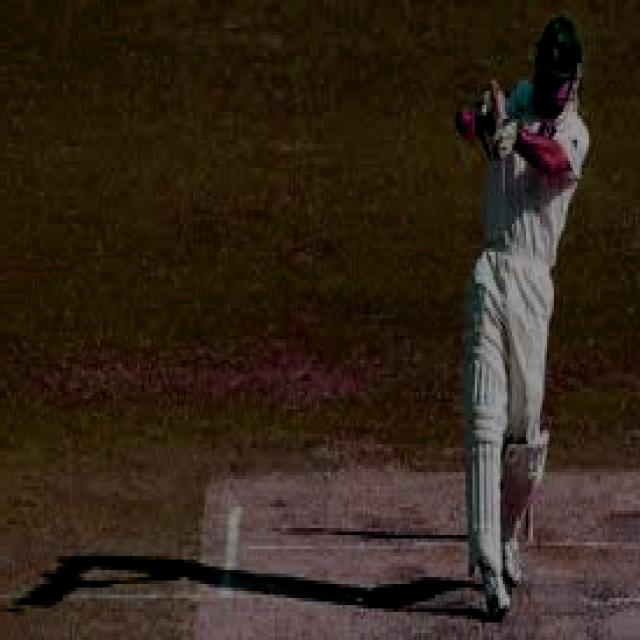toe: (493, 78, 508, 140)
